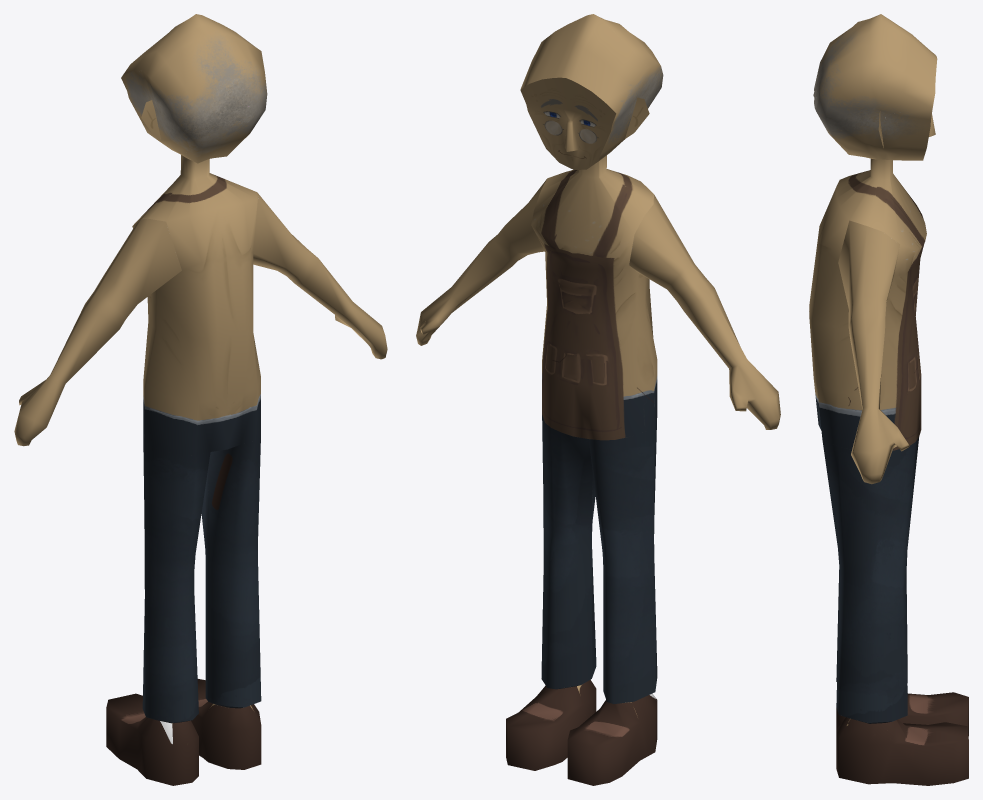
Rendered from Blacksmith_Model.fbx.
3 renders of one model, left to right at view 1: azimuth 30°, elevation 25°; view 2: azimuth 150°, elevation 25°; view 3: azimuth 270°, elevation 25°, orthographic. The views are drawn at different scales.
Visible parts, largest first — view 1: Blacksmith; view 2: Blacksmith; view 3: Blacksmith.
Boxes of the visible parts, box(x1,y1,x2,y2) form: Blacksmith: box(14, 14, 387, 785); Blacksmith: box(416, 14, 780, 785); Blacksmith: box(809, 14, 968, 785).
Bounding box in the file's own units: 85.7 × 166 × 32.15.
Materials: 2 (2 with a texture image).
